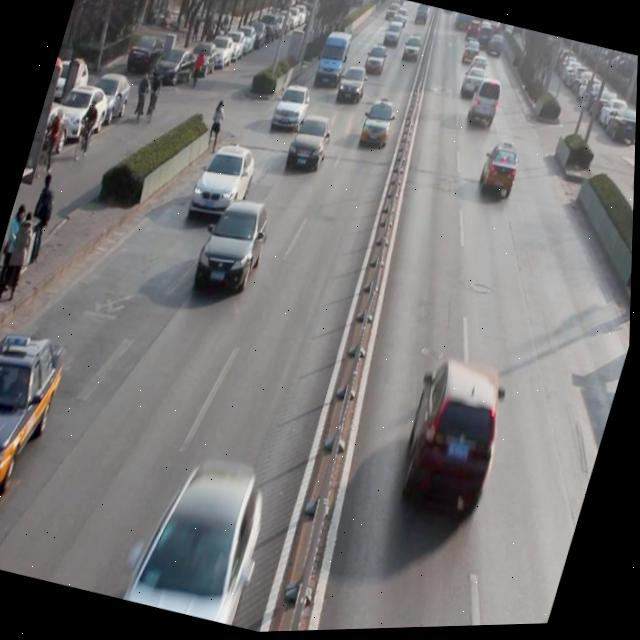car: (127, 451, 280, 630), (391, 355, 524, 527), (0, 329, 70, 512), (193, 198, 275, 306), (187, 137, 263, 229), (282, 115, 338, 182), (475, 141, 525, 208), (269, 80, 315, 139), (355, 100, 399, 157), (333, 64, 372, 112), (361, 42, 390, 80), (399, 34, 424, 68), (381, 24, 404, 54)
truck: (312, 30, 356, 95), (465, 77, 507, 134)
